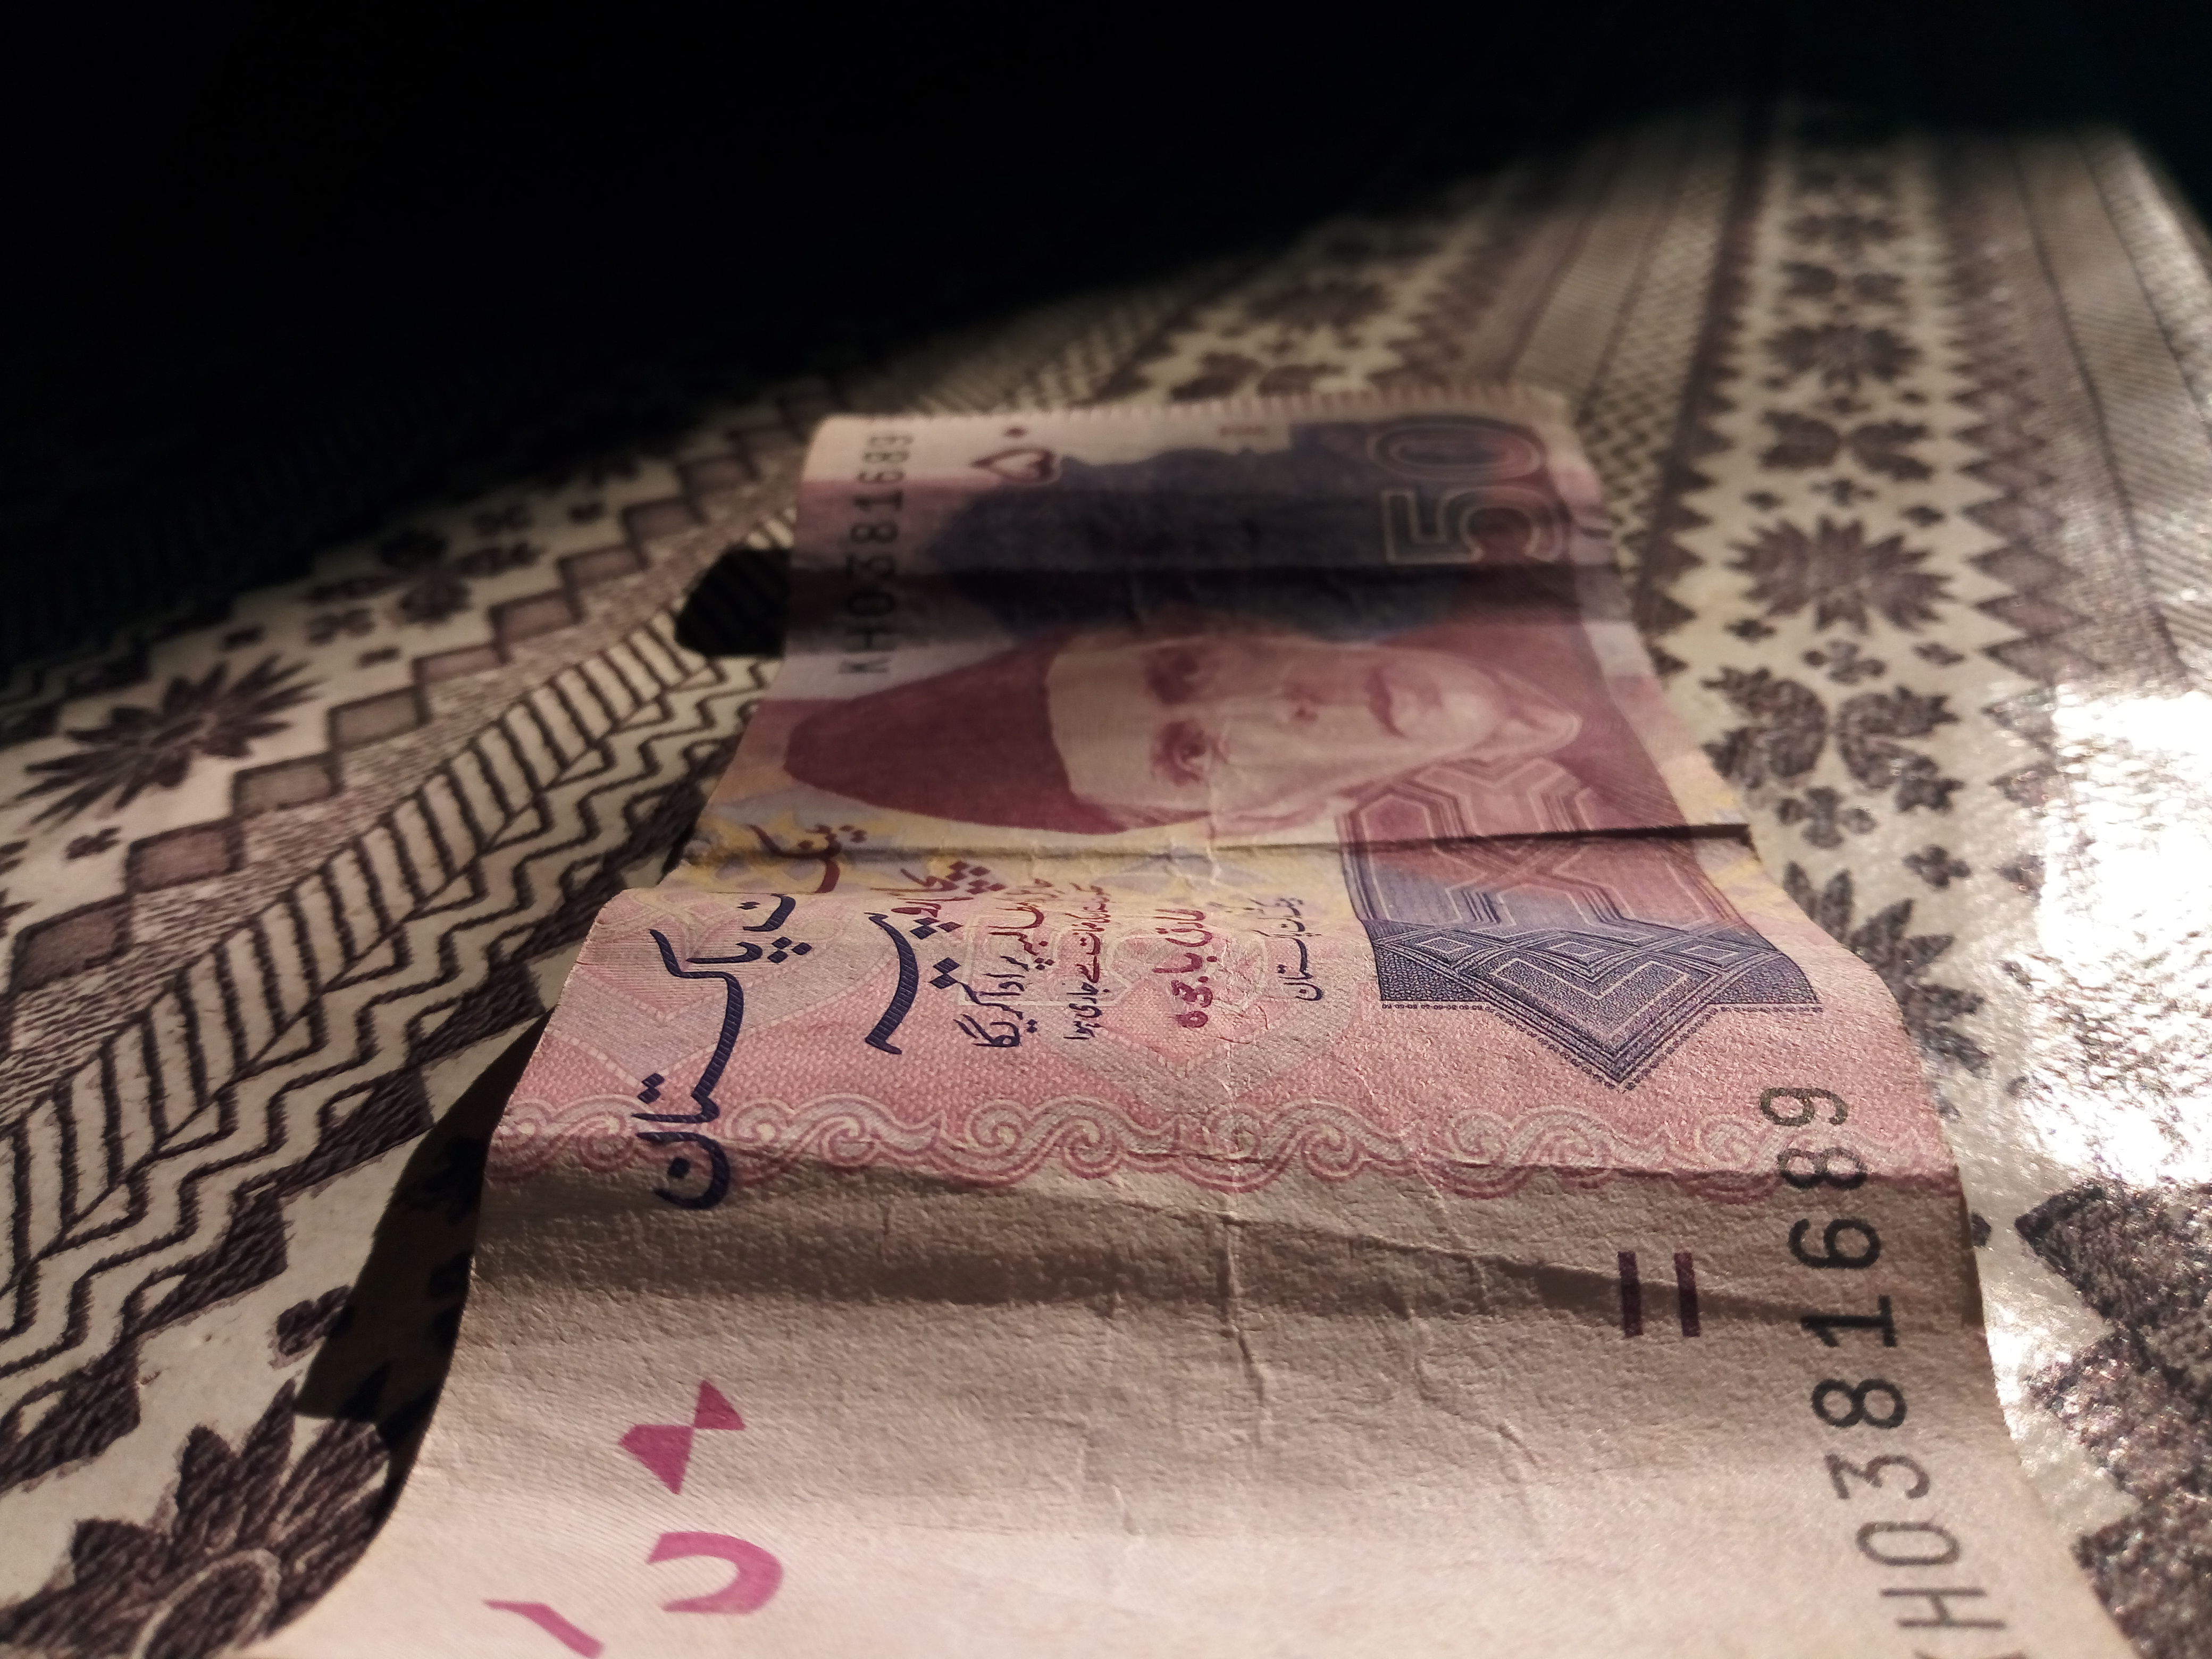50 rupee: (233, 314, 2120, 1659)
